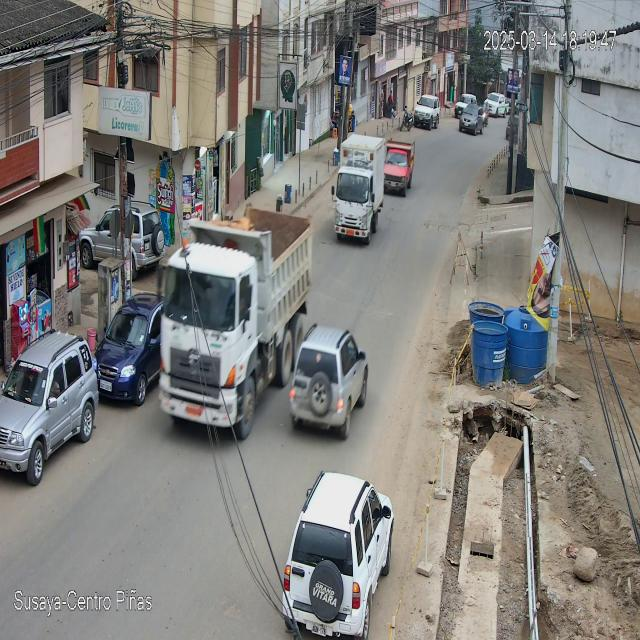SUV: (282, 472, 394, 640), (0, 332, 99, 486), (289, 324, 368, 440)
TRUCK: (159, 210, 312, 442), (332, 134, 388, 246)
